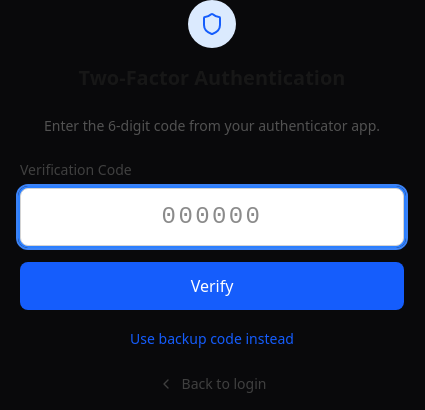
Test: TwoFactorVerify › TOTP verification › shows loading state during verification
Type "123456" into the field labelled "Verification Code".
click(212, 217); type("123456")  # box x1=20 y1=188 x2=404 y2=246
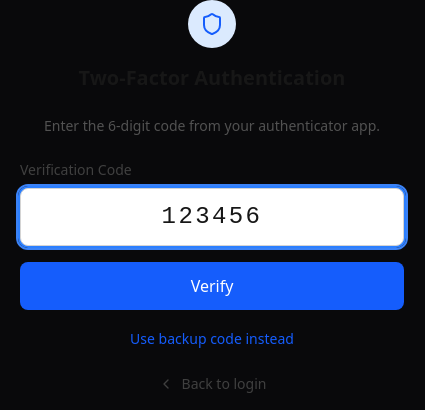
Click the button "Verify".
click(212, 286)  # box x1=20 y1=262 x2=404 y2=310
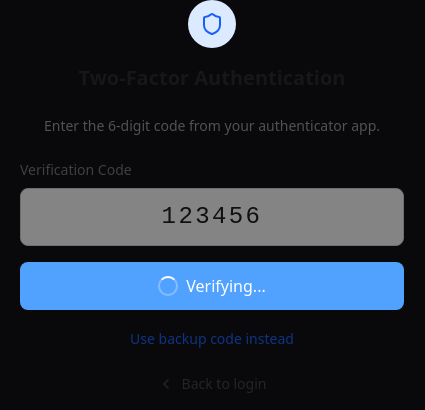
Result: the element with test id "verify-loading" is shown at x1=158 y1=276 x2=178 y2=296
